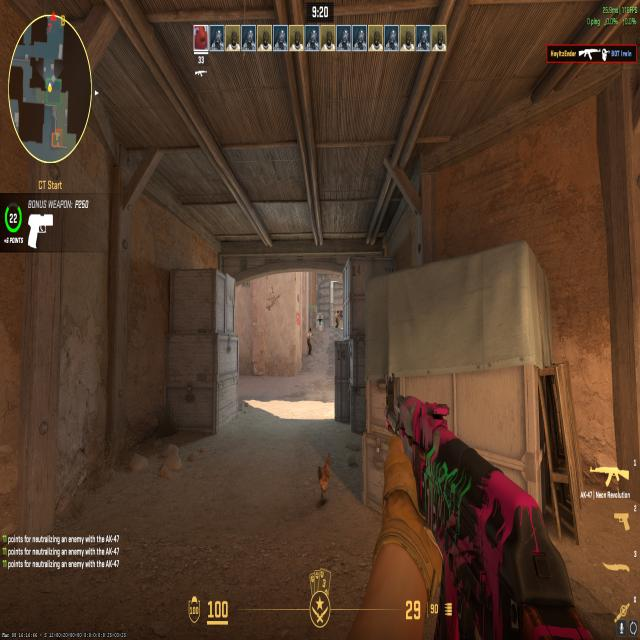t: (306, 325, 314, 356), (334, 309, 339, 329)
